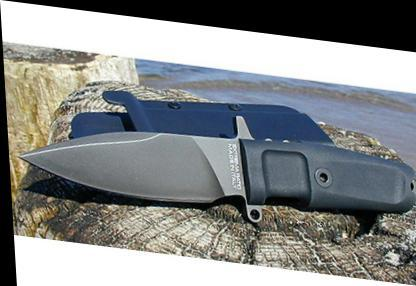knife: (5, 100, 236, 210)
